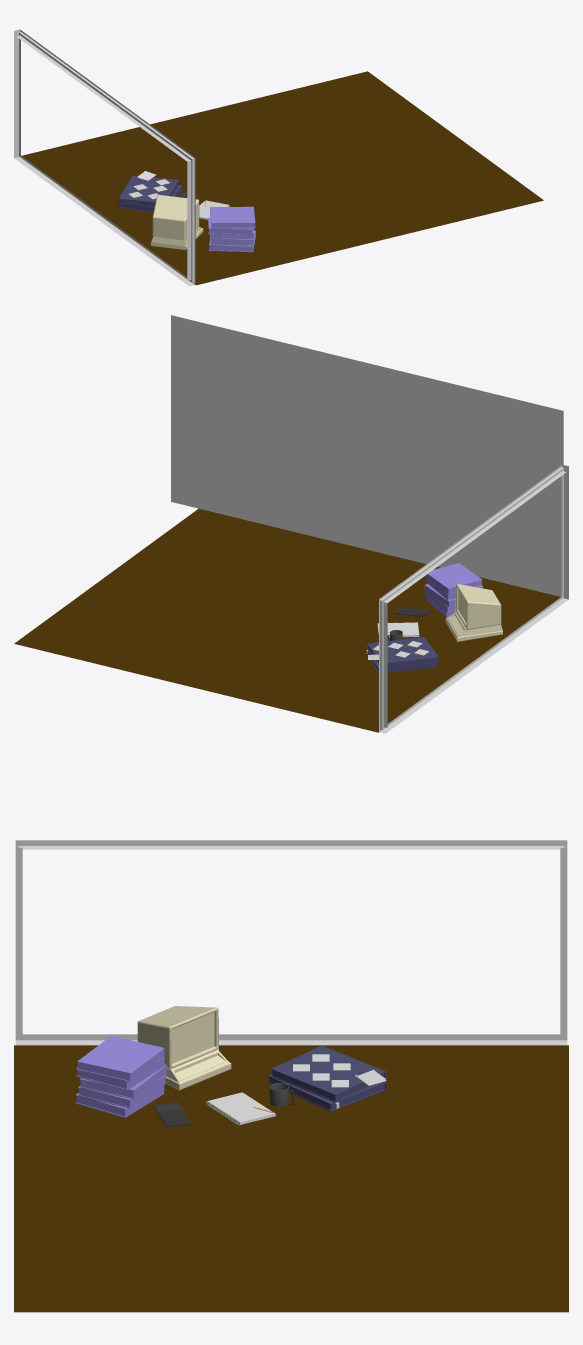
Rendered from 01-CURIOSITY.glb.
3 views of the same model, one above another, from view 1: azimuth 30°, elevation 25°; view 2: azimuth 150°, elevation 25°; view 3: azimuth 270°, elevation 25° (orthographic). The views are drawn at different scales.
Visible parts, largest first — view 1: Plane.002, Frame, Book, Plane.001, Cube.002; view 2: Frame, Plane.002, Plane.001, Book, Cube.002; view 3: Plane.002, Frame, Book, Plane.001, Cube.002, Paper.
Part boxes in pixels (box(x1,y1,x2,y2)): Plane.002: box(21, 71, 543, 285); Frame: box(14, 29, 195, 286); Book: box(208, 206, 255, 252); Plane.001: box(151, 194, 203, 249); Cube.002: box(118, 175, 182, 212); Frame: box(171, 315, 568, 733); Plane.002: box(14, 508, 560, 732); Plane.001: box(445, 583, 502, 641); Book: box(424, 563, 483, 617); Cube.002: box(366, 636, 438, 673); Plane.002: box(14, 1045, 568, 1312); Frame: box(15, 840, 567, 1045); Book: box(75, 1036, 166, 1117); Plane.001: box(137, 1006, 231, 1090); Cube.002: box(268, 1045, 386, 1111); Paper: box(207, 1092, 275, 1124).
Size of the model in its own units: 4.42 by 1.99 by 3.55.
